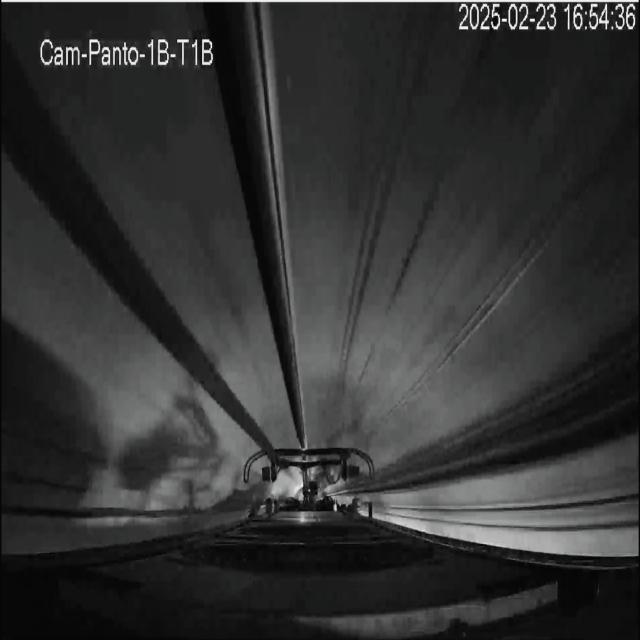Camera Stamp: (34, 29, 221, 72)
Date Stamp: (459, 3, 637, 33)
No - Spark: (241, 441, 375, 522)
